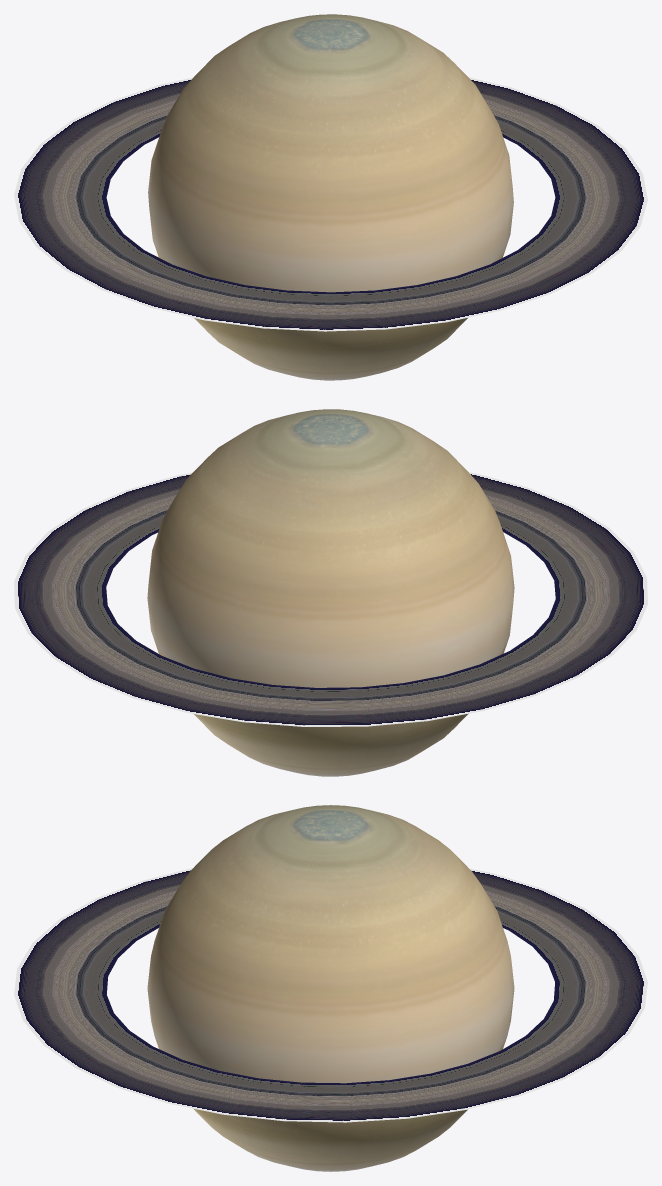
The model's file is saturn.glb.
The picture shows the model from 3 angles, top to bottom: view 1: azimuth 30°, elevation 25°; view 2: azimuth 150°, elevation 25°; view 3: azimuth 270°, elevation 25°; orthographic projection.
Parts seen in each view (by area): view 1: saturn, saturn_ring; view 2: saturn, saturn_ring; view 3: saturn, saturn_ring.
Boxes of the visible parts, <box> form: saturn: <box>148,14,513,380</box>; saturn_ring: <box>14,77,647,331</box>; saturn: <box>147,409,514,776</box>; saturn_ring: <box>14,472,647,726</box>; saturn: <box>147,805,514,1171</box>; saturn_ring: <box>14,867,647,1122</box>.
Bounding box in the file's own units: 20.84 × 12.07 × 20.84.
2 materials, 2 textured.
